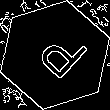P_SW: (23, 23, 87, 87)
